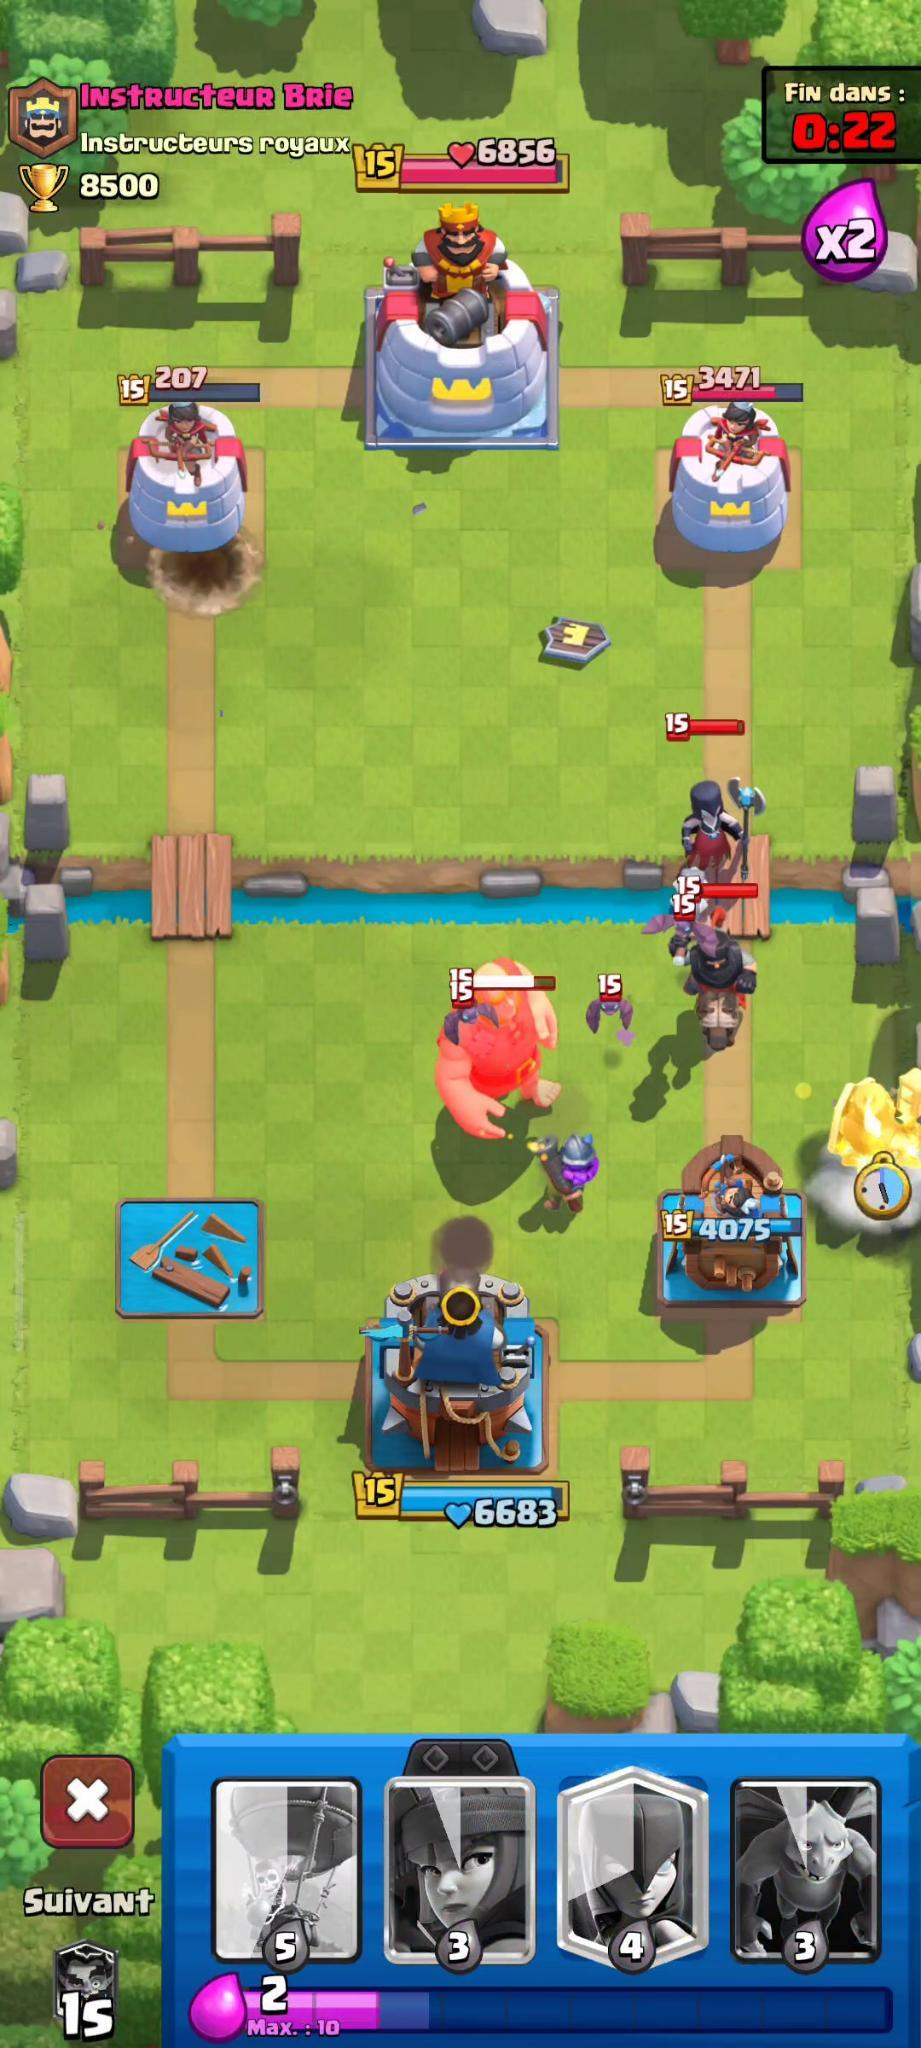enemy_bats: (430, 963, 494, 1044), (580, 974, 639, 1044)
enemy_giant: (440, 950, 575, 1152)
enemy_knight: (666, 876, 773, 1056)
enemy_night_witch: (652, 707, 770, 868)
player_musketeer: (521, 1113, 608, 1220)
